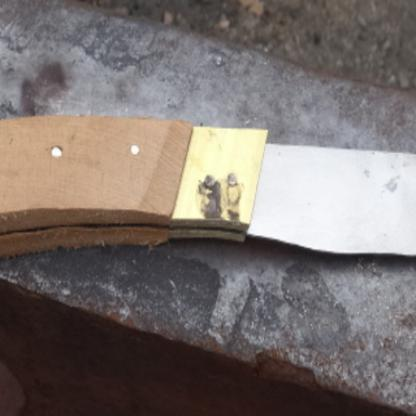knife: (0, 111, 415, 273)
